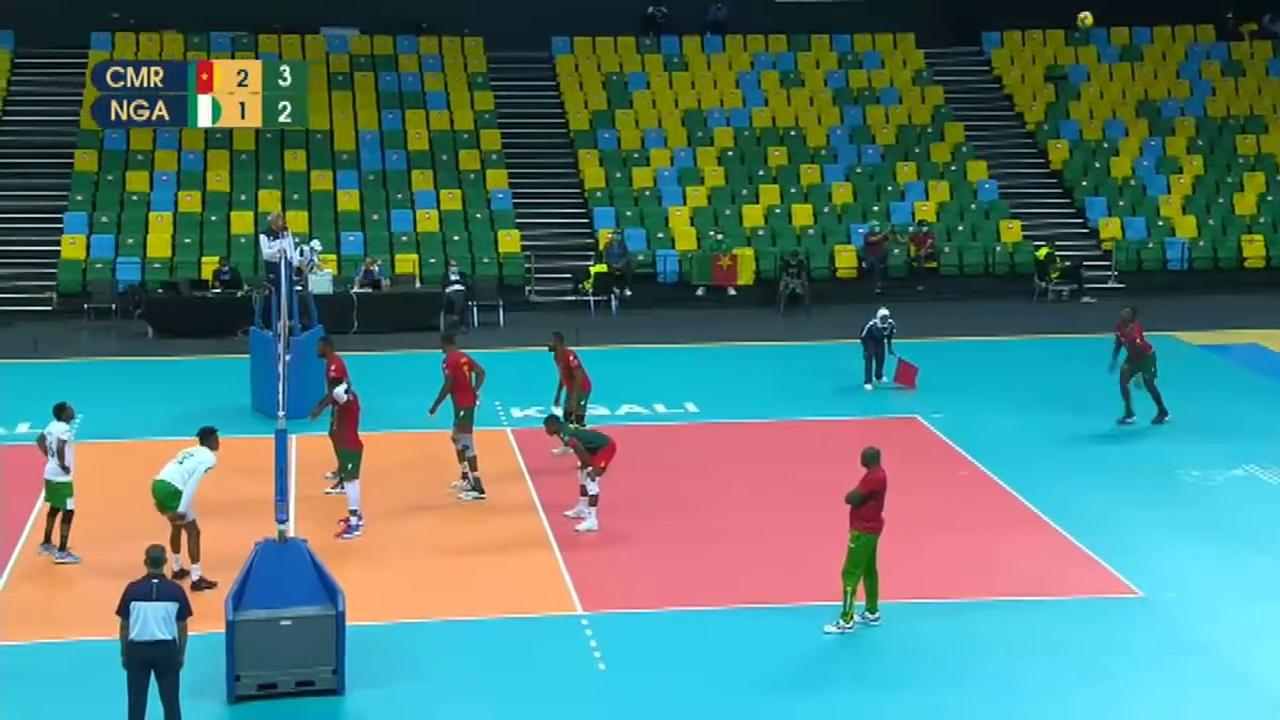player: (150, 429, 221, 589), (539, 412, 624, 539), (427, 336, 487, 497), (303, 338, 363, 499), (34, 405, 83, 561), (326, 375, 371, 541), (1113, 306, 1172, 424), (534, 329, 595, 426)
refree: (114, 539, 191, 720), (260, 211, 305, 326), (859, 307, 897, 391)
